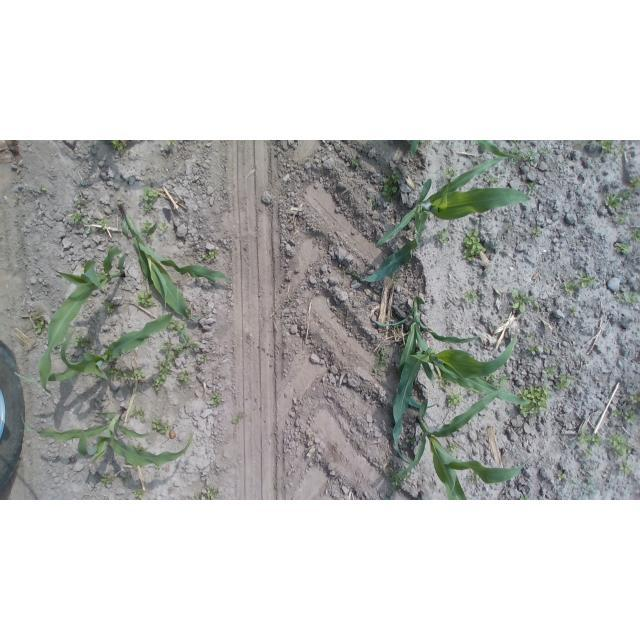Maize: (348, 154, 532, 282), (392, 335, 521, 465), (395, 388, 535, 500), (117, 197, 234, 323), (37, 248, 127, 397), (12, 311, 176, 386), (21, 407, 196, 468), (369, 293, 481, 380), (408, 141, 518, 160)
Weeds: (153, 340, 180, 393), (518, 384, 553, 421), (462, 229, 486, 261), (607, 430, 633, 457), (380, 171, 400, 202), (106, 366, 146, 381), (67, 210, 91, 234), (510, 289, 534, 313), (139, 187, 161, 213), (177, 332, 200, 356), (604, 192, 633, 211), (370, 348, 388, 377), (578, 426, 603, 446), (134, 290, 158, 308), (580, 477, 598, 500), (194, 485, 221, 500), (612, 409, 637, 425), (556, 373, 576, 392), (73, 335, 96, 351), (151, 419, 172, 436), (166, 318, 186, 335), (489, 373, 507, 390), (618, 291, 639, 305), (579, 271, 595, 289), (447, 391, 463, 408), (128, 405, 144, 421), (176, 369, 192, 385), (522, 149, 537, 166), (599, 141, 616, 156), (201, 248, 219, 262), (31, 315, 45, 333), (562, 279, 580, 293), (543, 363, 560, 377), (436, 228, 450, 244), (392, 476, 405, 493), (464, 292, 480, 305), (110, 141, 128, 152), (102, 299, 115, 313), (620, 461, 633, 475), (98, 218, 110, 233), (210, 392, 222, 407), (445, 167, 458, 180), (616, 242, 630, 254), (101, 475, 116, 486), (76, 196, 88, 209), (488, 176, 501, 188), (467, 472, 480, 484), (233, 412, 244, 425), (630, 175, 640, 189), (630, 228, 640, 242), (158, 220, 169, 232), (616, 214, 628, 225), (529, 343, 540, 355), (629, 392, 640, 404), (133, 486, 144, 498), (142, 219, 152, 232), (574, 140, 588, 149), (440, 377, 449, 391), (447, 443, 459, 453), (512, 140, 525, 149), (583, 449, 594, 459), (407, 435, 418, 445), (367, 197, 377, 207), (136, 442, 145, 453), (200, 352, 209, 362), (350, 159, 360, 168), (568, 306, 576, 317), (468, 388, 478, 396), (12, 195, 21, 203), (527, 182, 533, 194), (519, 494, 531, 500), (558, 471, 565, 481), (40, 185, 48, 193), (533, 229, 541, 237), (380, 468, 388, 476), (617, 147, 624, 156), (568, 478, 576, 485), (540, 147, 547, 154), (167, 140, 175, 146), (388, 274, 396, 280), (404, 473, 409, 482), (533, 303, 540, 309), (527, 334, 533, 341), (341, 268, 346, 276), (506, 226, 514, 231), (394, 324, 403, 328), (543, 348, 549, 353), (474, 440, 480, 445), (420, 140, 427, 144), (120, 480, 125, 485), (396, 468, 401, 473), (557, 496, 561, 501), (155, 466, 161, 469), (308, 436, 312, 439)
